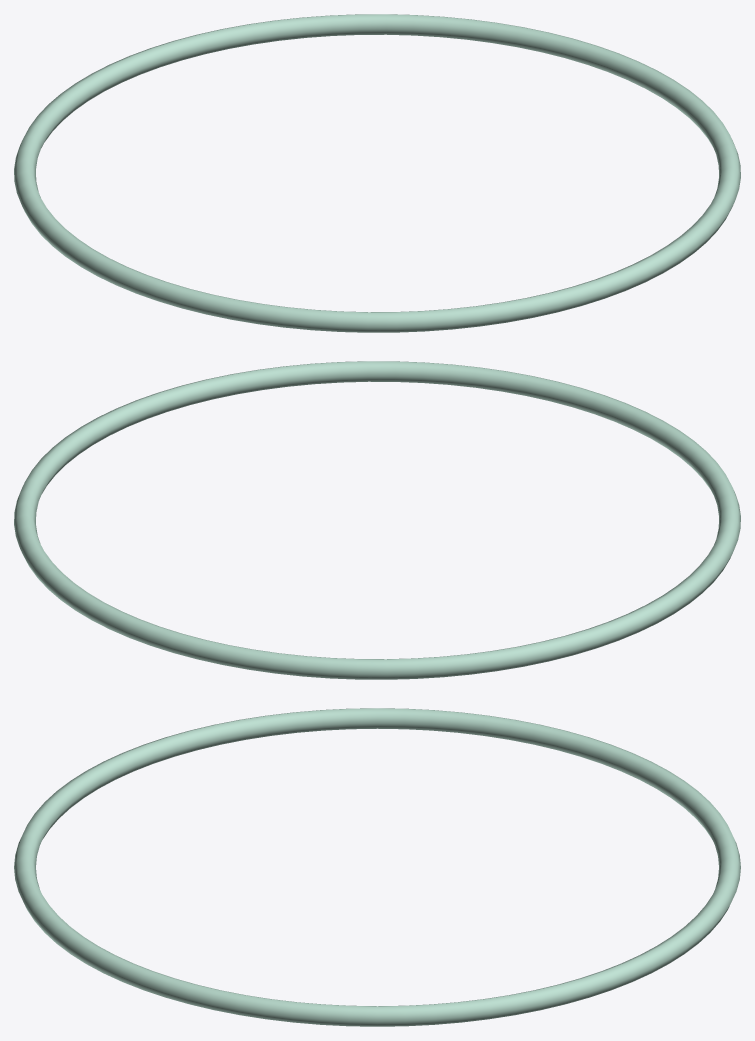
File: Ripple.fbx
The picture shows the model from 3 angles, top to bottom: view 1: azimuth 30°, elevation 25°; view 2: azimuth 150°, elevation 25°; view 3: azimuth 270°, elevation 25°; orthographic projection.
Visible parts, largest first — view 1: Ripple; view 2: Ripple; view 3: Ripple.
Part boxes in pixels (box(x1,y1,x2,y2)): Ripple: box(14, 14, 740, 332); Ripple: box(14, 361, 740, 679); Ripple: box(14, 708, 740, 1026).
Size of the model in its own units: 92.8 by 2.8 by 92.8.
